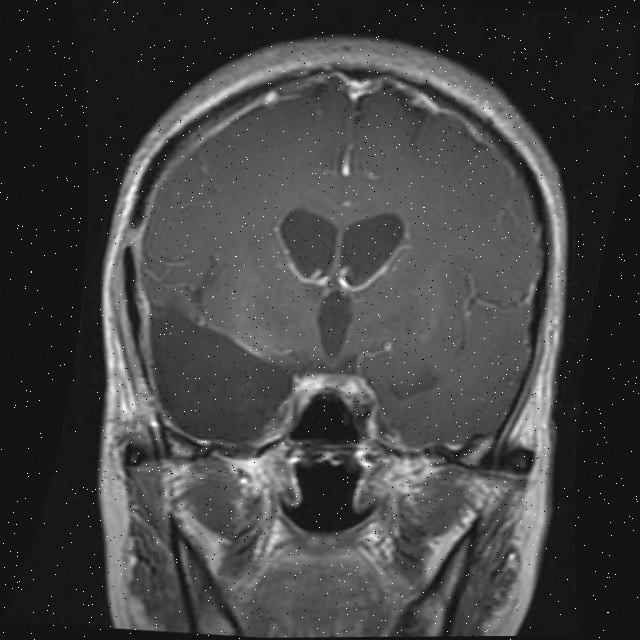Glioma: (128, 299, 306, 451)
